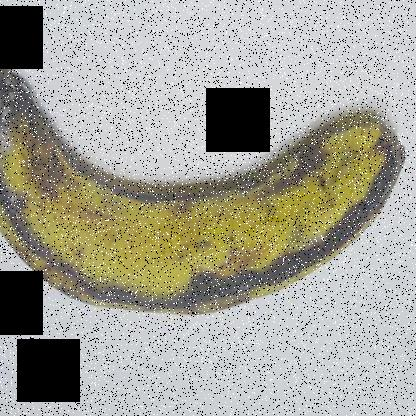overripe: (1, 28, 412, 332)
rotten: (1, 45, 69, 181)
